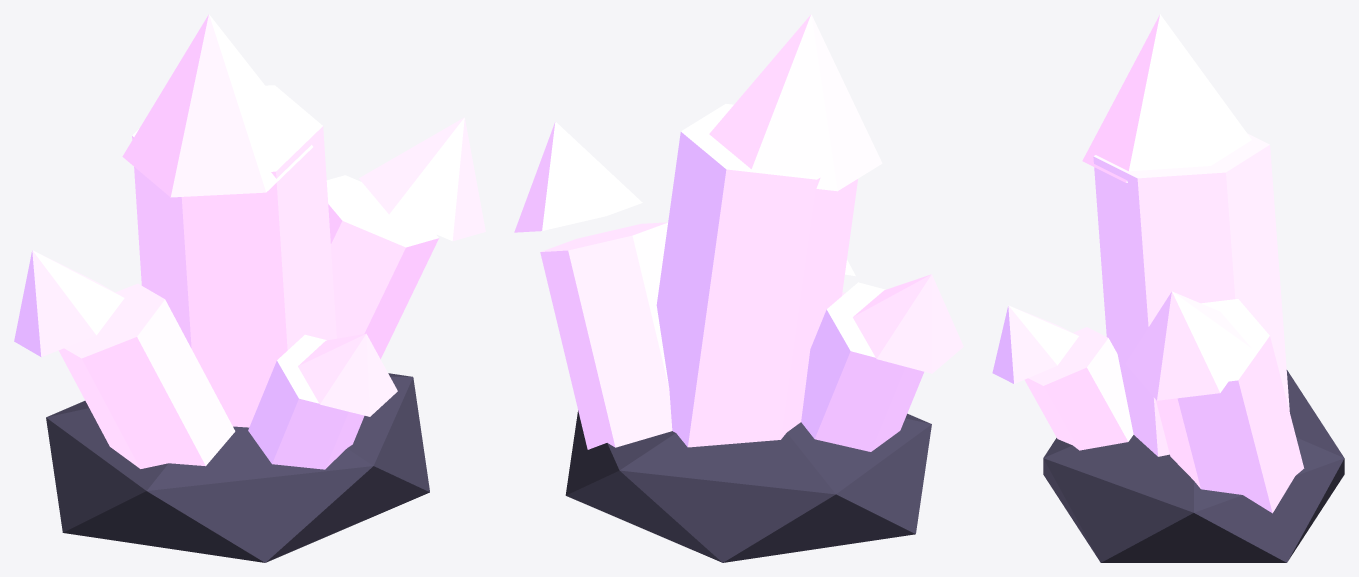
The model's file is crystal.glb.
The picture shows the model from 3 angles, left to right: view 1: azimuth 30°, elevation 25°; view 2: azimuth 150°, elevation 25°; view 3: azimuth 270°, elevation 25°; orthographic projection. The views are drawn at different scales.
Visible parts, largest first — view 1: crystal; view 2: crystal; view 3: crystal.
Boxes of the visible parts, x1,y1,x2,y2 form: crystal: (14, 14, 485, 562); crystal: (514, 14, 963, 562); crystal: (992, 14, 1344, 562).
Size of the model in its own units: 0.5878 by 0.6907 by 0.4374.
